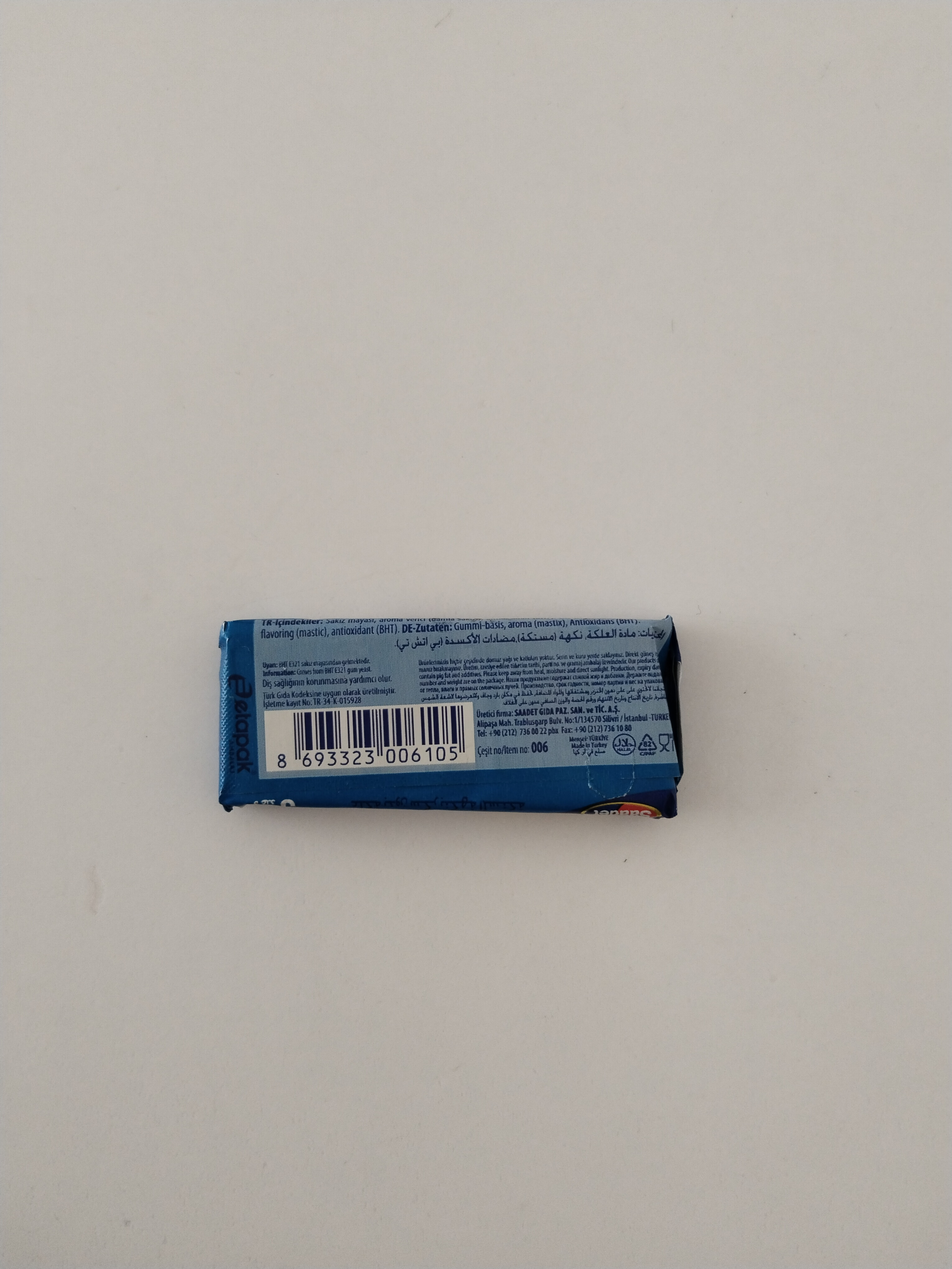nazar_damla_sakizli_sakiz: (219, 618, 681, 817)
